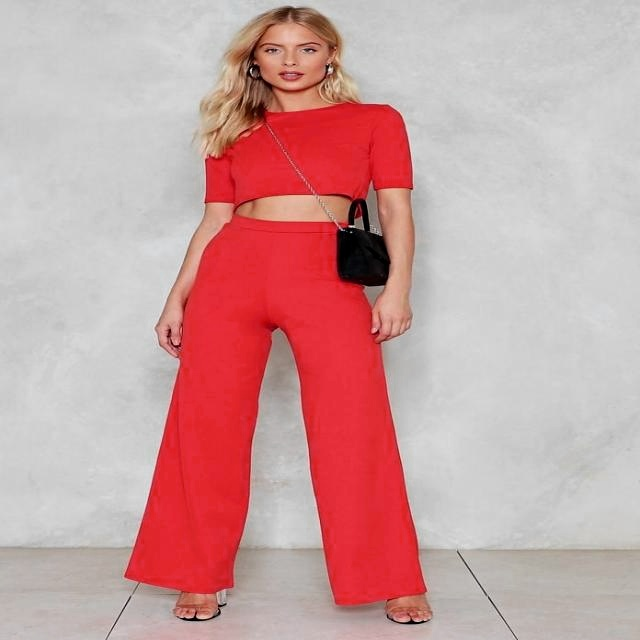Crop_Top: (232, 112, 372, 223)
